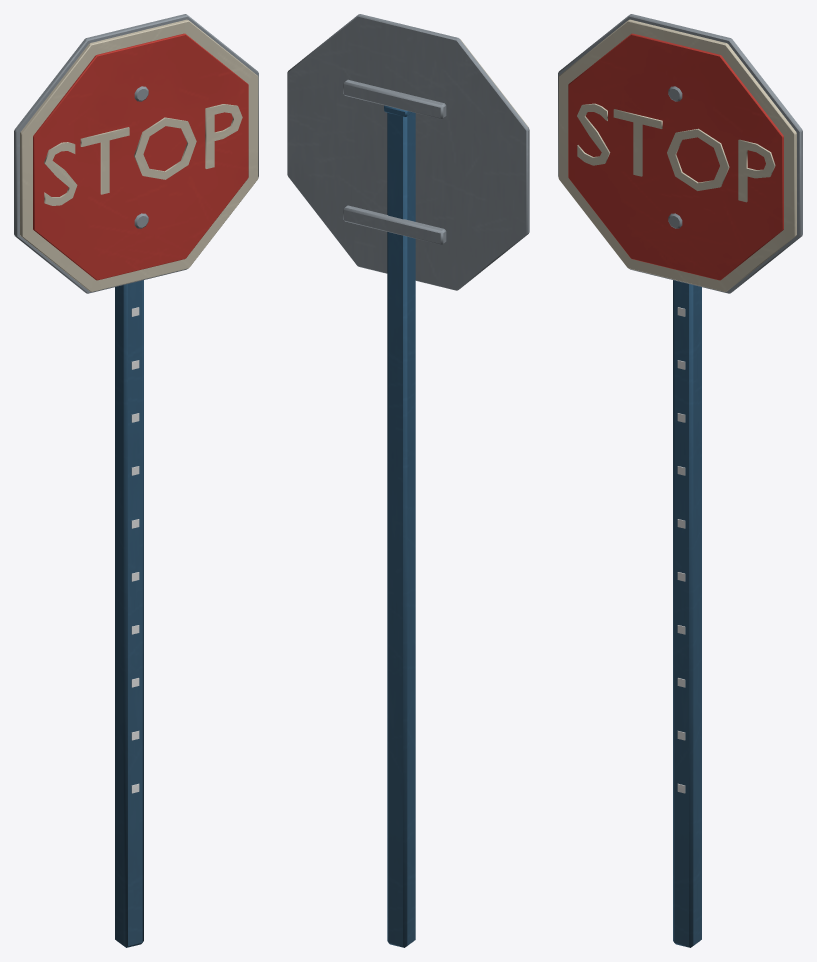
Rendered from stop_sign.glb.
The picture shows the model from 3 angles, left to right: view 1: azimuth 30°, elevation 25°; view 2: azimuth 150°, elevation 25°; view 3: azimuth 330°, elevation 25°; orthographic projection.
Parts seen in each view (by area): view 1: stop_sign; view 2: stop_sign; view 3: stop_sign.
Boxes of the visible parts, bbox=[...] form: stop_sign: bbox=[14, 14, 258, 947]; stop_sign: bbox=[287, 14, 529, 947]; stop_sign: bbox=[558, 14, 802, 947].
Bounding box in the file's own units: 0.7206 × 2.61 × 0.1145.
8 materials, 8 textured.
